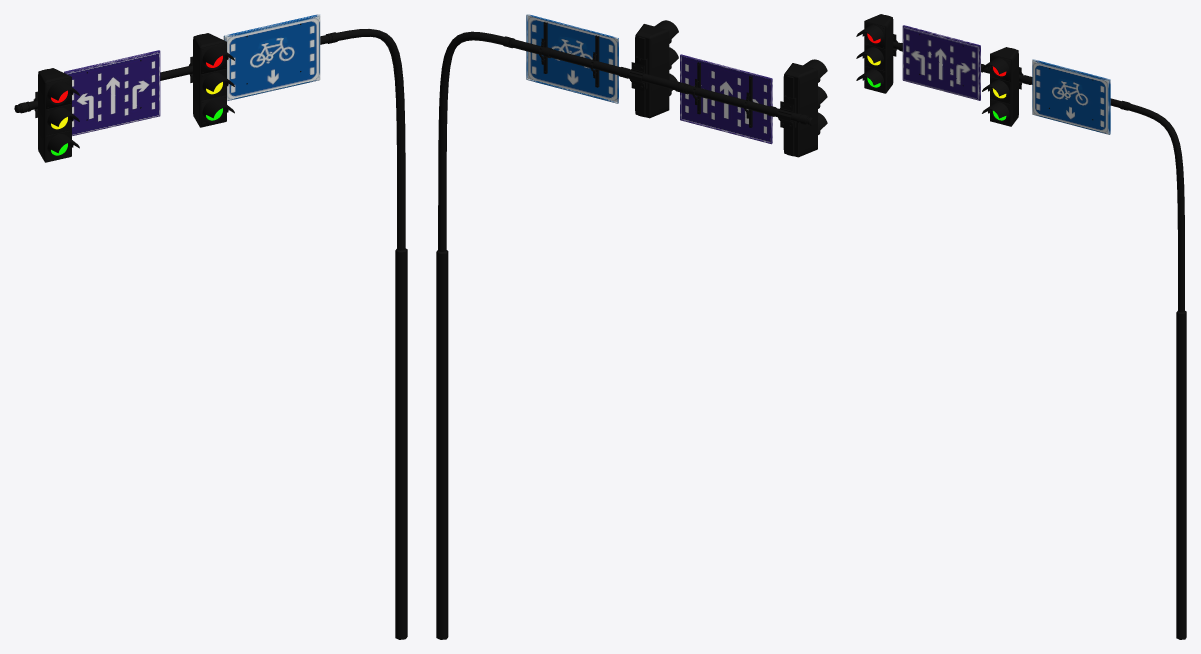
The model's file is hld.FBX.
3 views of the same model, side by side, from view 1: azimuth 30°, elevation 25°; view 2: azimuth 150°, elevation 25°; view 3: azimuth 330°, elevation 25° (orthographic). The views are drawn at different scales.
Visible parts, largest first — view 1: pCylinder2, Object002, Object003; view 2: pCylinder2, Object002, Object003, Object001; view 3: pCylinder2, Object003, Object002.
Part boxes in pixels (<box>): pCylinder2: <box>14,29,407,639</box>; Object002: <box>223,14,320,100</box>; Object003: <box>64,50,160,135</box>; pCylinder2: <box>436,20,827,639</box>; Object002: <box>526,14,618,103</box>; Object003: <box>680,54,772,144</box>; Object001: <box>539,22,752,127</box>; pCylinder2: <box>856,14,1186,639</box>; Object003: <box>902,25,980,100</box>; Object002: <box>1032,59,1110,134</box>.
Bounding box in the file's own units: 3617 × 5882 × 564.
